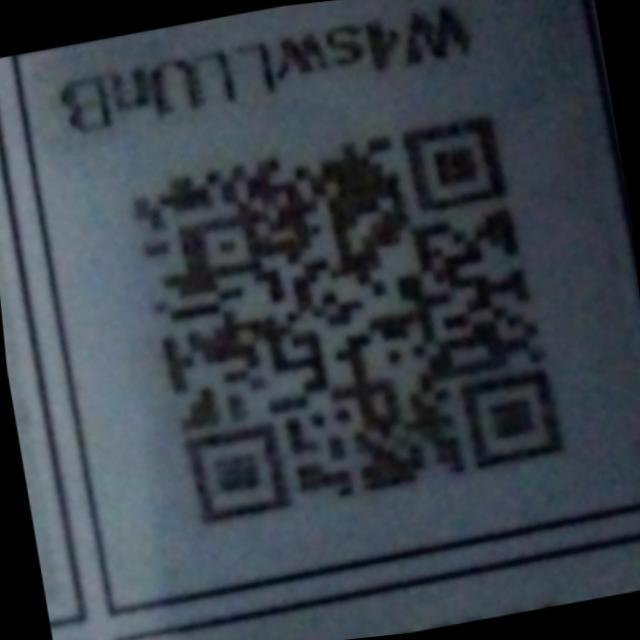QRCode: (89, 89, 590, 551)
